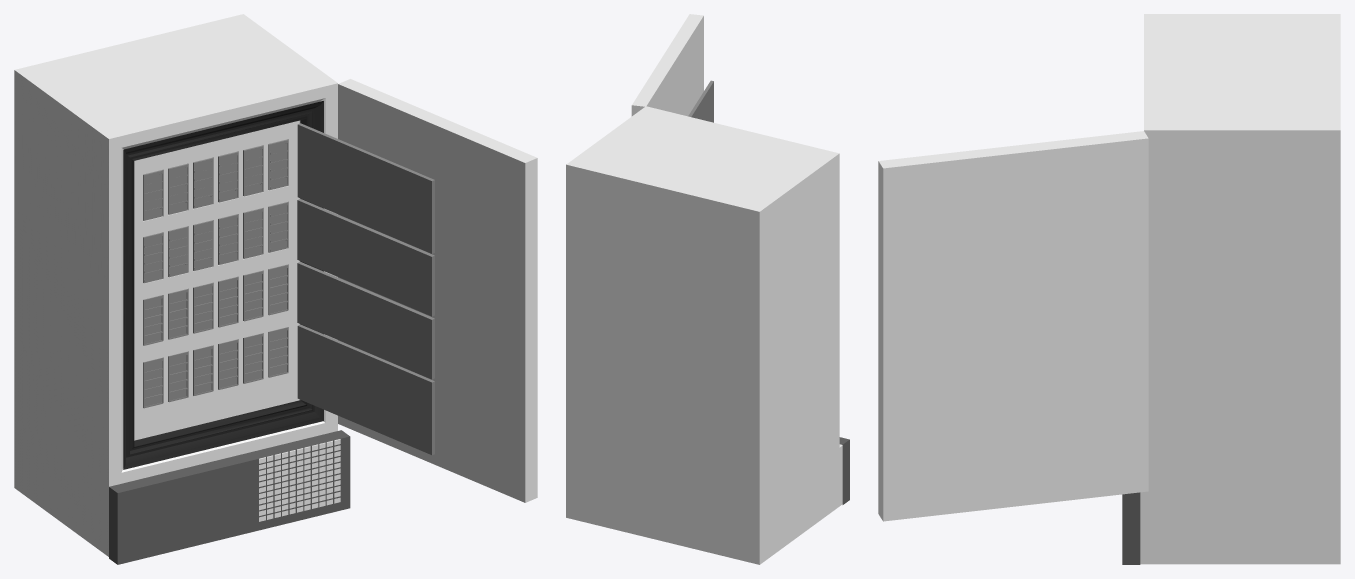
File: fridge.FBX
3 views of the same model, side by side, from view 1: azimuth 30°, elevation 25°; view 2: azimuth 150°, elevation 25°; view 3: azimuth 270°, elevation 25° (orthographic). The views are drawn at different scales.
Parts seen in each view (by area): view 1: Box001, 对象066, 对象058, 对象001, 对象074, 对象009, 对象063, 对象073, 对象036, 对象043, 对象028; view 2: Box001, 对象066, 对象009, 对象058; view 3: Box001, 对象066, 对象058.
Boxes of the visible parts, x1,y1,x2,y2 form: Box001: (14,14,340,556); 对象066: (338,79,537,502); 对象058: (109,430,350,564); 对象001: (123,101,323,469); 对象074: (297,324,434,455); 对象009: (297,123,434,253); 对象063: (297,199,434,316); 对象073: (297,262,434,379); 对象036: (143,264,288,345); 对象043: (143,327,288,408); 对象028: (143,202,288,283); Box001: (566,106,842,564); 对象066: (631,14,703,116); 对象009: (688,80,713,122); 对象058: (839,437,849,504); Box001: (1140,14,1340,564); 对象066: (878,131,1148,521); 对象058: (1122,492,1140,564).
Bounding box in the file's own units: 136 × 178 × 172.
4 materials, 1 textured.
